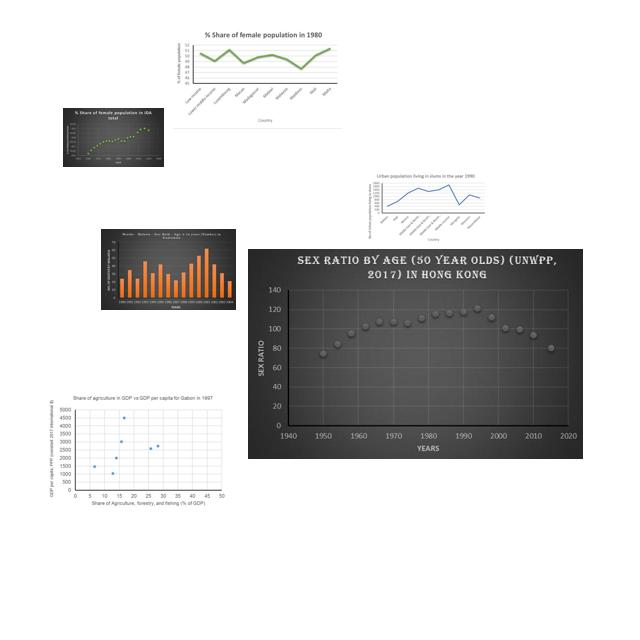Graph: (248, 249, 583, 459), (46, 389, 226, 509), (173, 27, 342, 129), (101, 229, 236, 310), (365, 171, 489, 243), (63, 108, 164, 167)
